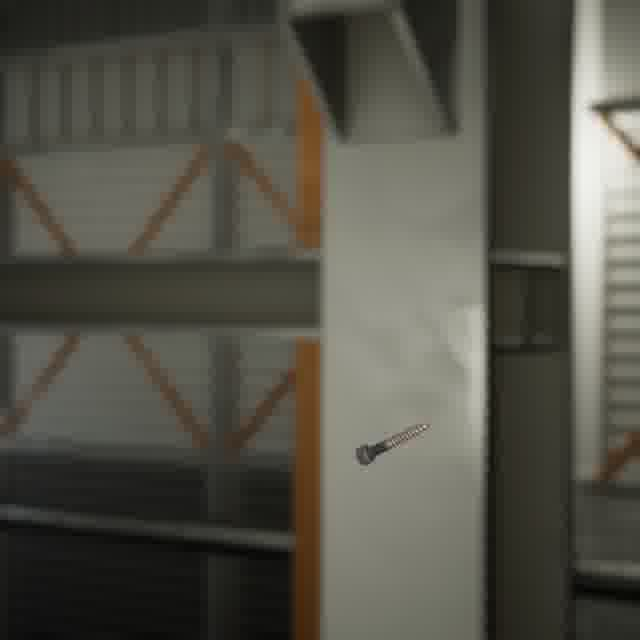bolt: (351, 417, 433, 470)
